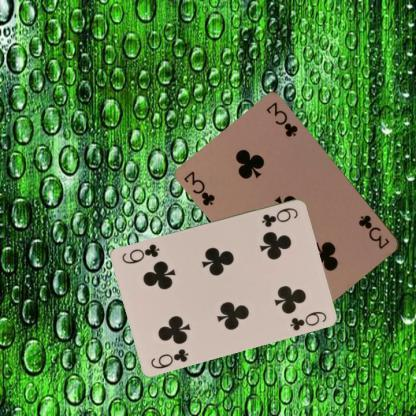3c: (181, 168, 217, 208), (356, 212, 391, 251)
6c: (149, 345, 190, 370), (259, 205, 299, 228)
